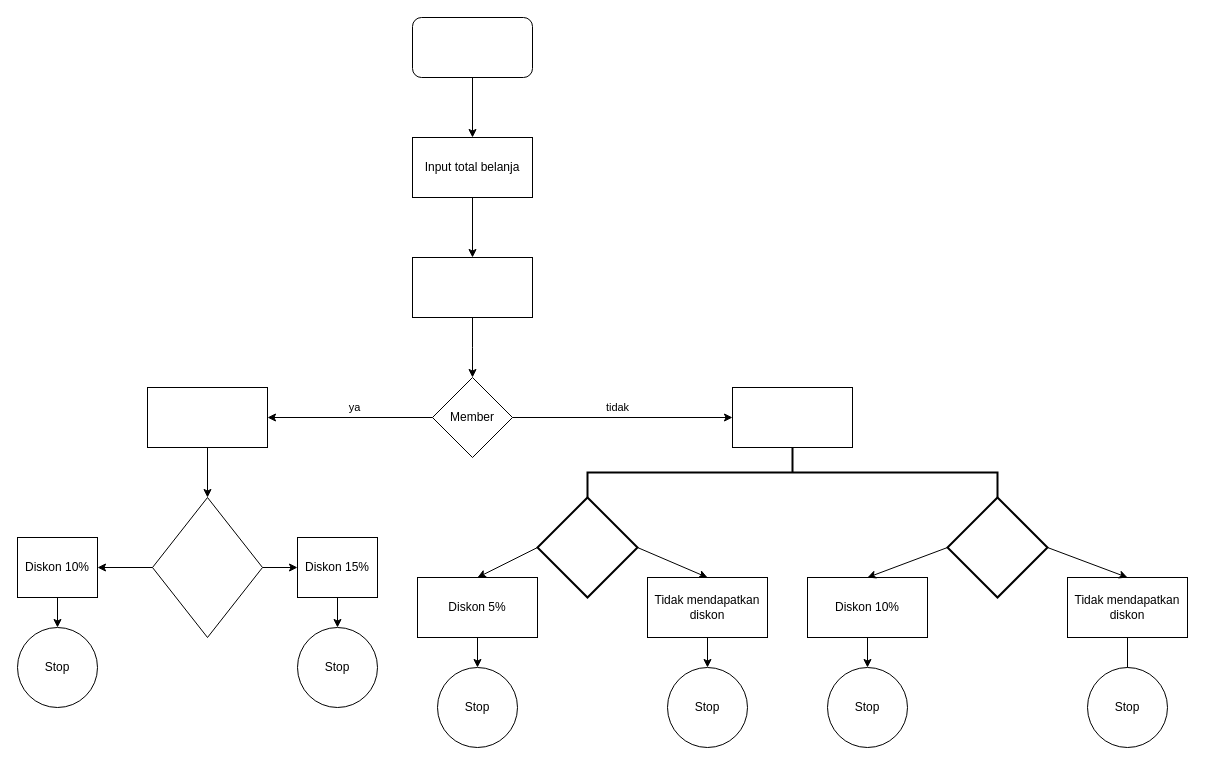
The diagram is 1205 pixels wide and 765 high, and some of its shapes have lost their labels. The shapes that lost their labels are listed below. From the top down, each one's centre as x and y in pixels, then its label:
point 472,47: Start
point 472,287: Input status member
point 207,417: Diskon untuk yang member
point 792,417: Diskon untuk yang tidak member
point 207,567: Total belanja lebih dari 1.000.000
point 587,547: Total belanja 500.000 - 999.999
point 997,547: Total belanja 1.000.000 atau lebih
